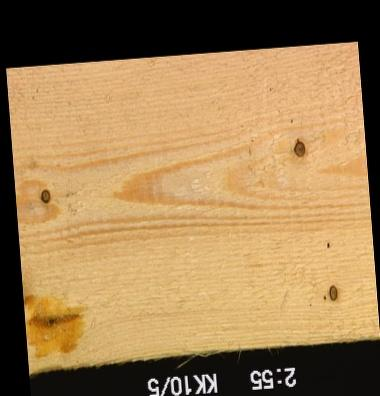dry_knot: (291, 136, 304, 157), (326, 282, 337, 301), (38, 187, 50, 203)
